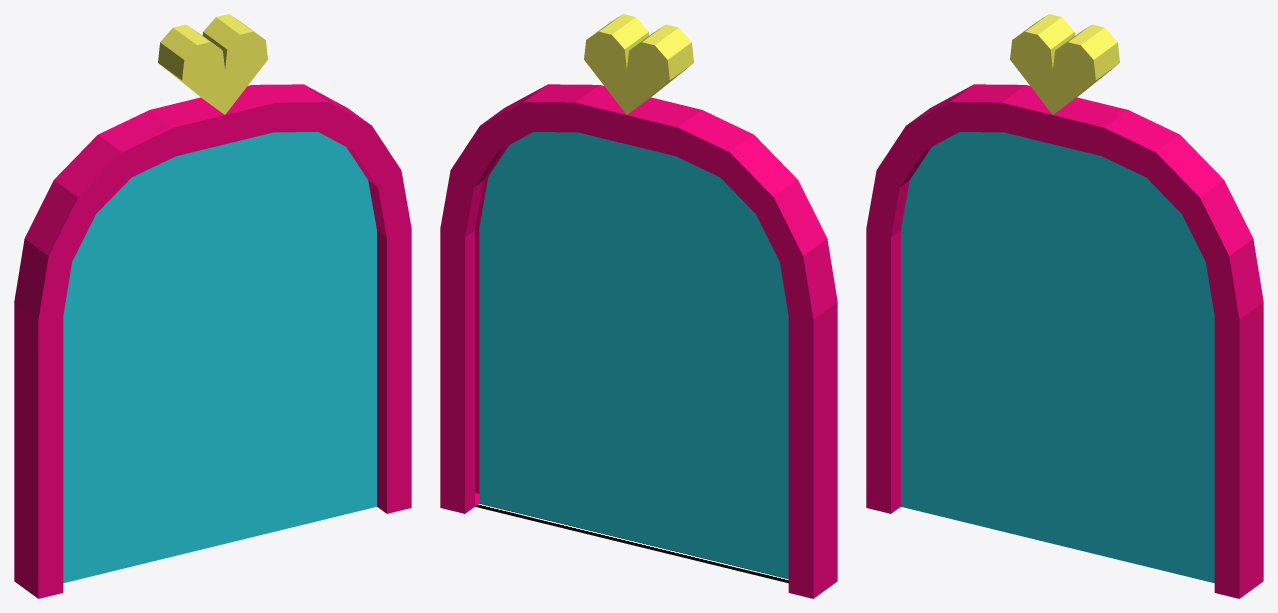
Rendered from geçit.fbx.
3 views of the same model, side by side, from view 1: azimuth 30°, elevation 25°; view 2: azimuth 150°, elevation 25°; view 3: azimuth 330°, elevation 25° (orthographic).
Visible parts, largest first — view 1: Cube.001; view 2: Cube.001; view 3: Cube.001.
Boxes of the visible parts, box(x1,y1,x2,y2) form: Cube.001: box(14, 14, 411, 598); Cube.001: box(440, 14, 837, 598); Cube.001: box(866, 14, 1263, 598).
Bounding box in the file's own units: 555 × 732 × 62.27.
